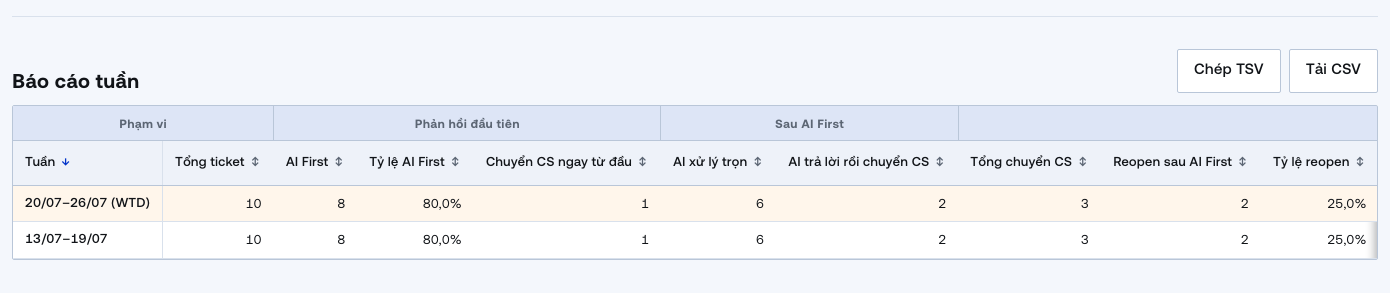
bulk export › downloads the weekly report as UTF-8 BOM CSV
This screenshot has width=1390, height=293.
Click the button "Tải CSV".
click(1333, 71)  # box x1=1289 y1=49 x2=1378 y2=93
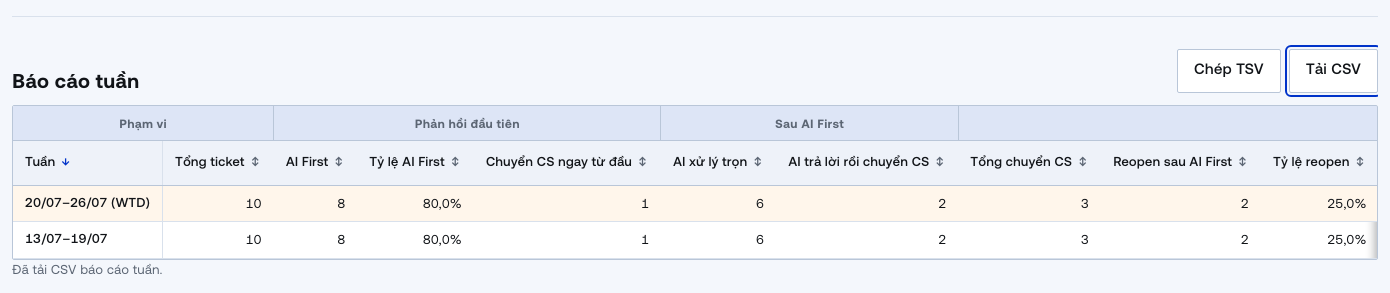
Expected: the text "Đã tải CSV báo cáo tuần." is shown, x1=12 y1=260 x2=162 y2=276
